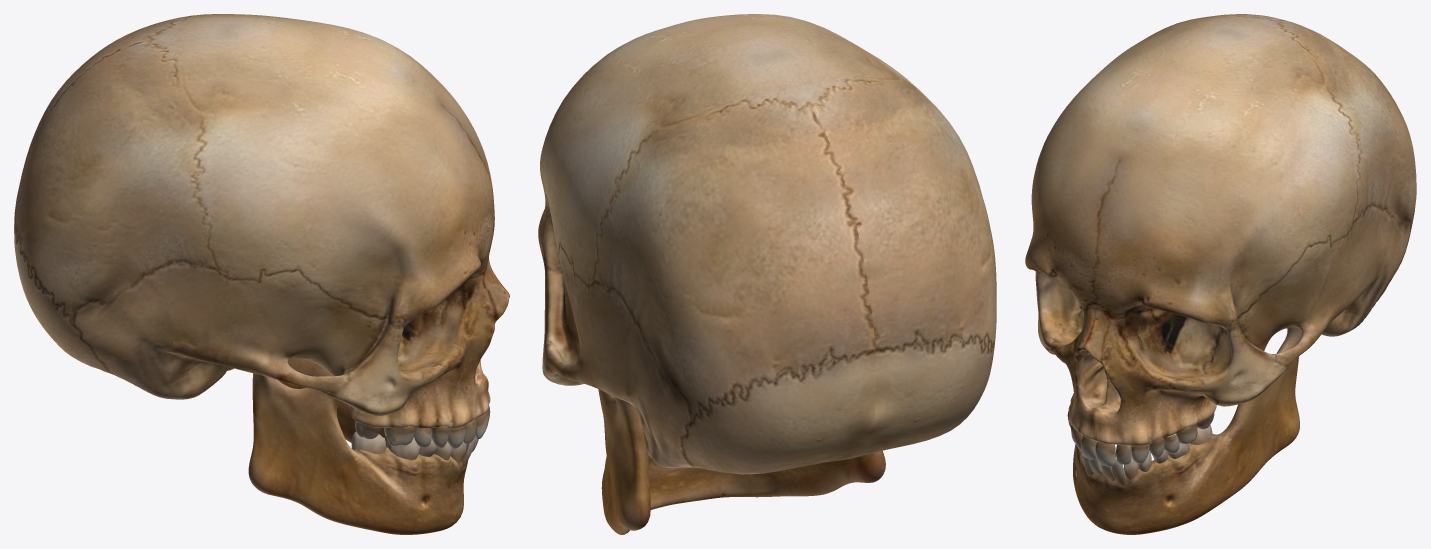
Rendered from human_skull.glb.
3 renders of one model, left to right at view 1: azimuth 30°, elevation 25°; view 2: azimuth 150°, elevation 25°; view 3: azimuth 270°, elevation 25°, orthographic. The views are drawn at different scales.
Visible parts, largest first — view 1: Node4, Node1, Node2, Node3; view 2: Node4, Node1; view 3: Node4, Node1, Node2, Node3.
Boxes of the visible parts, bbox=[...] form: Node4: bbox=[14, 14, 509, 428]; Node1: bbox=[248, 358, 467, 534]; Node2: bbox=[355, 406, 490, 448]; Node3: bbox=[351, 431, 478, 468]; Node4: bbox=[538, 14, 996, 474]; Node1: bbox=[598, 389, 885, 534]; Node4: bbox=[1025, 14, 1416, 446]; Node1: bbox=[1073, 327, 1302, 534]; Node2: bbox=[1067, 411, 1214, 466]; Node3: bbox=[1079, 424, 1212, 485].
Bounding box in the file's own units: 27.45 × 30.38 × 25.1.
Materials: 1 (1 with a texture image).
